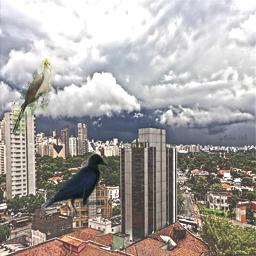Crow: (41, 153, 108, 217)
Cuckoo: (12, 58, 52, 134)
